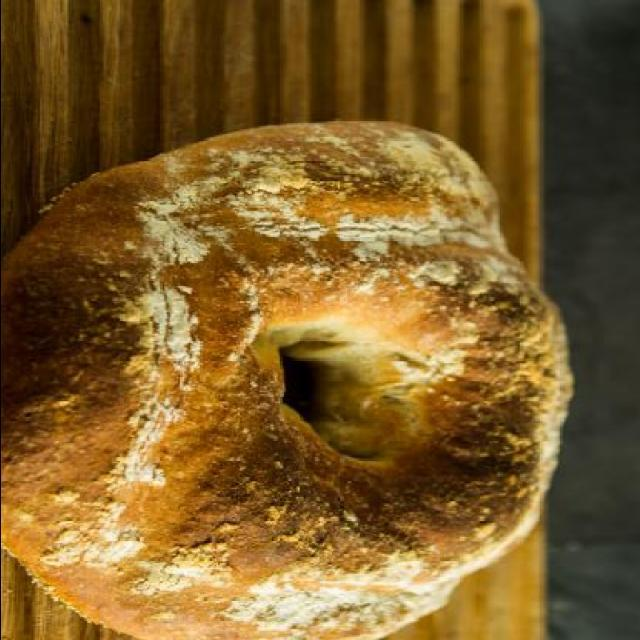Bagel: (1, 117, 572, 640)
